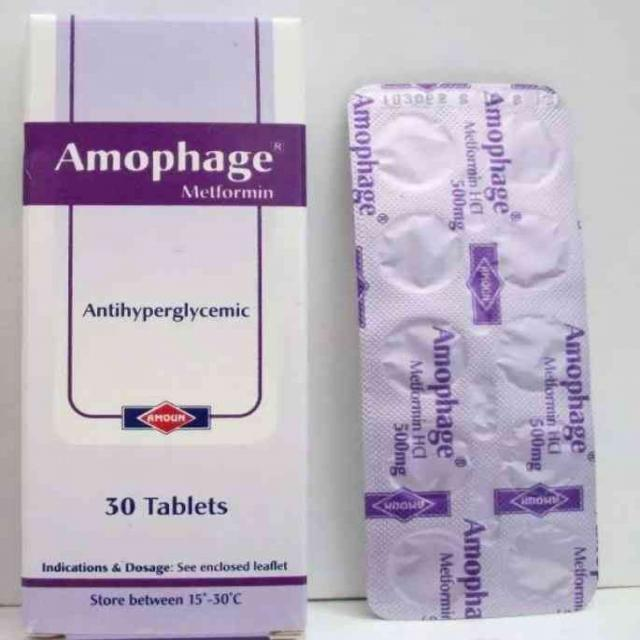drug-name: (54, 136, 272, 180)
